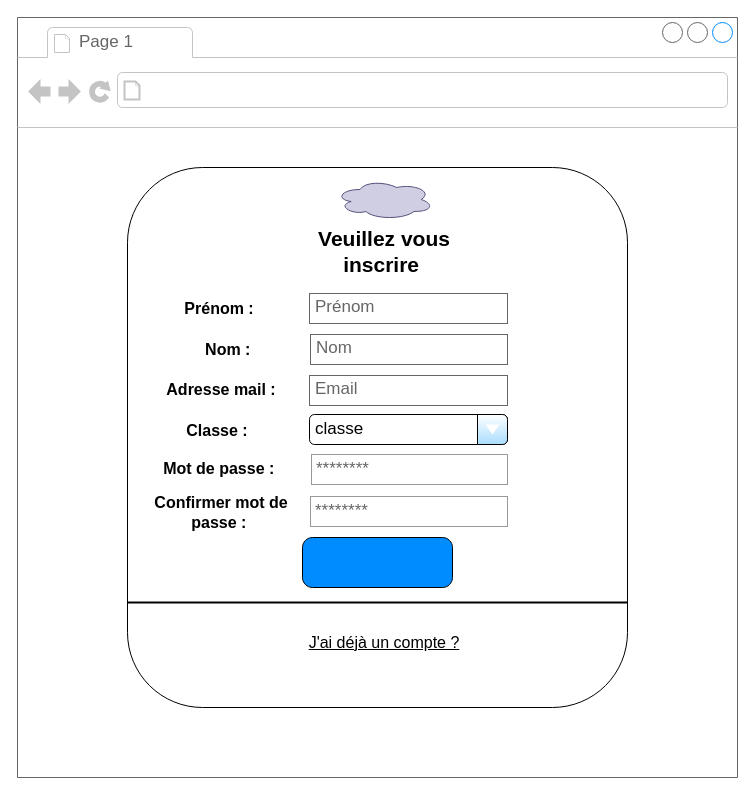
This 755x795 diagram has some shape labels left out. Here are the shapes that lost their labels. From the top down, the box of each, then its label:
(146, 76, 398, 104): https://www.draw.io
(334, 178, 434, 220): PICO
(302, 536, 452, 588): S'inscrire
